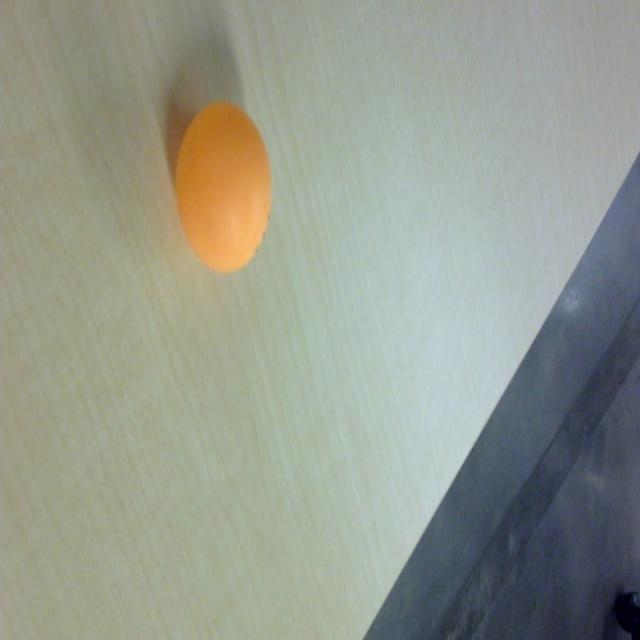ball: (172, 99, 276, 280)
